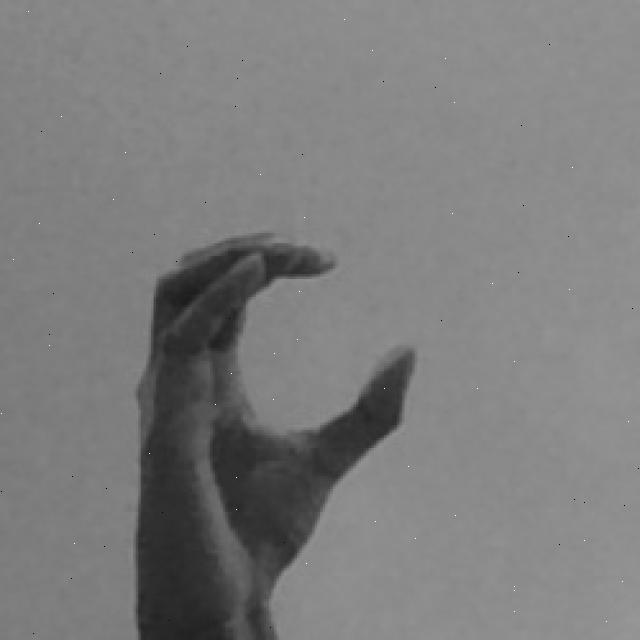C: (131, 227, 418, 640)
